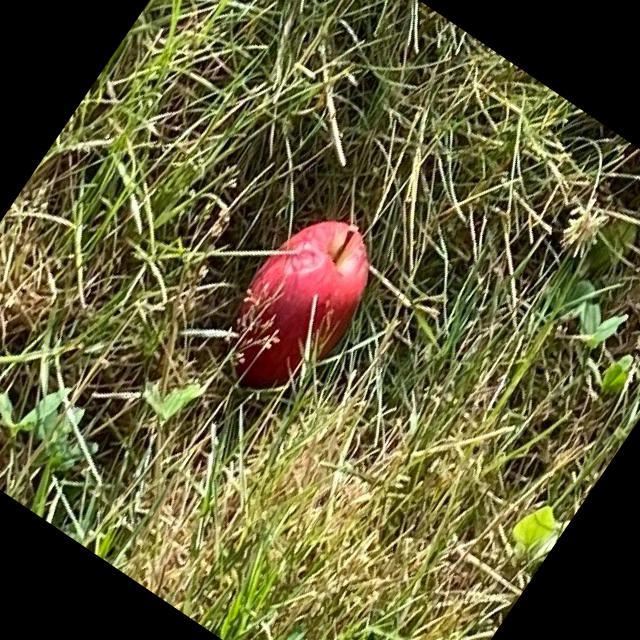100-_ripeness: (207, 198, 397, 410)
